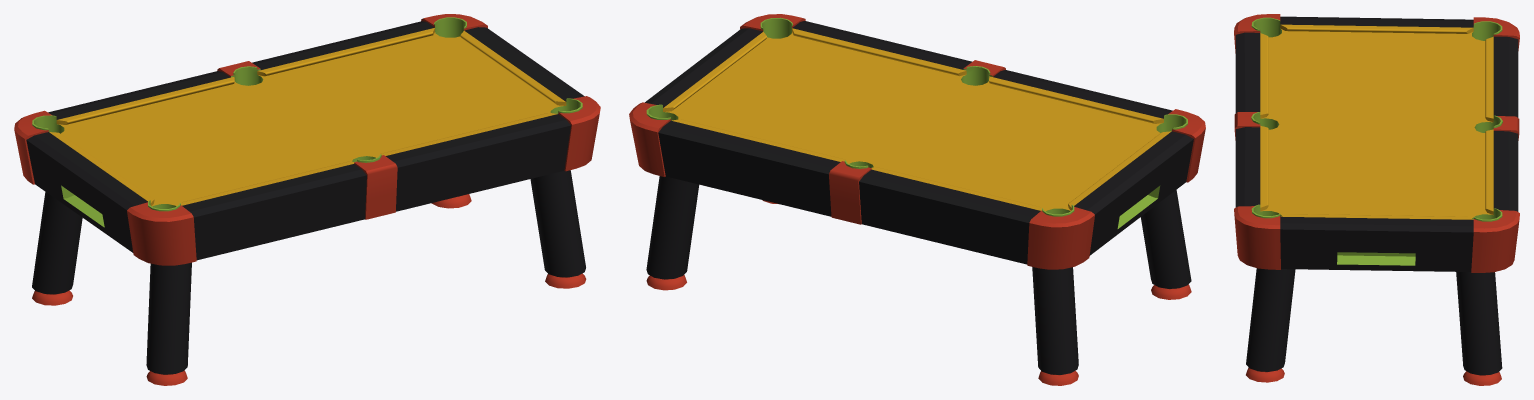
Rendered from 3D_8ball_table.fbx.
The picture shows the model from 3 angles, left to right: view 1: azimuth 30°, elevation 25°; view 2: azimuth 150°, elevation 25°; view 3: azimuth 270°, elevation 25°; orthographic projection. The views are drawn at different scales.
Parts seen in each view (by area): view 1: 8ball_table; view 2: 8ball_table; view 3: 8ball_table.
Boxes of the visible parts, bbox=[...] form: 8ball_table: bbox=[14, 14, 600, 385]; 8ball_table: bbox=[629, 14, 1205, 385]; 8ball_table: bbox=[1234, 14, 1519, 385].
Size of the model in its own units: 206 by 75.83 by 116.
